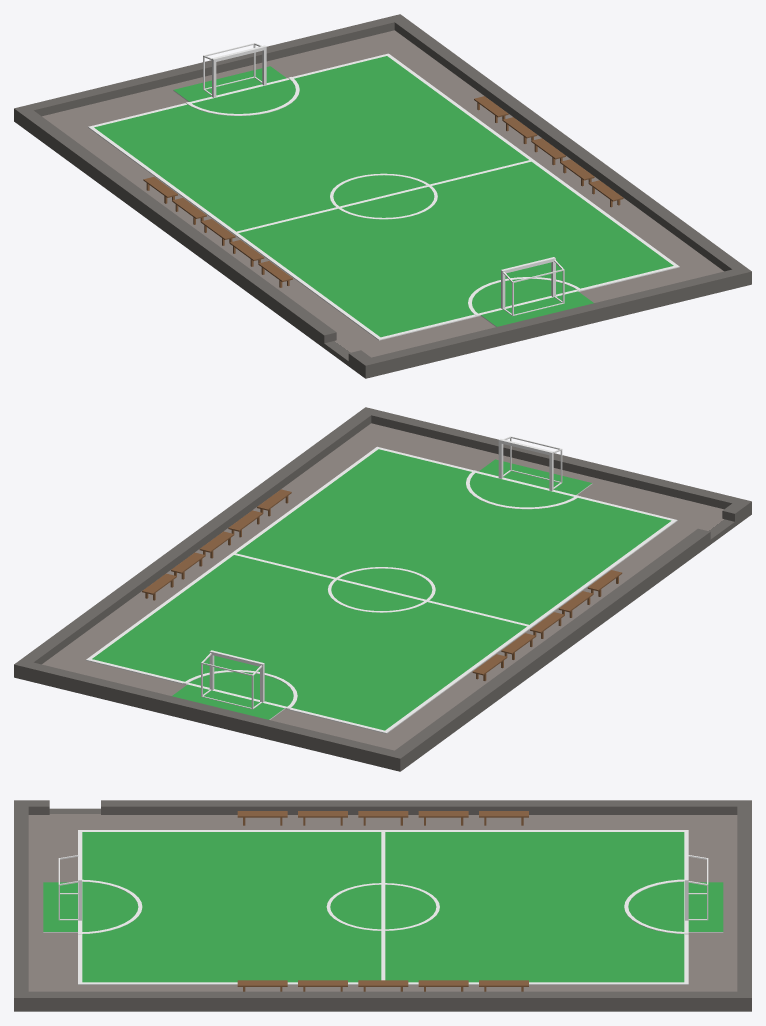
The model's file is Football.fbx.
The picture shows the model from 3 angles, top to bottom: view 1: azimuth 30°, elevation 25°; view 2: azimuth 150°, elevation 25°; view 3: azimuth 270°, elevation 25°; orthographic projection. The views are drawn at different scales.
Visible parts, largest first — view 1: Football; view 2: Football; view 3: Football.
Boxes of the visible parts, x1,y1,x2,y2 form: Football: (14, 14, 751, 378); Football: (14, 407, 751, 771); Football: (14, 800, 751, 1011).
Bounding box in the file's own units: 30.58 × 3.36 × 48.2.
